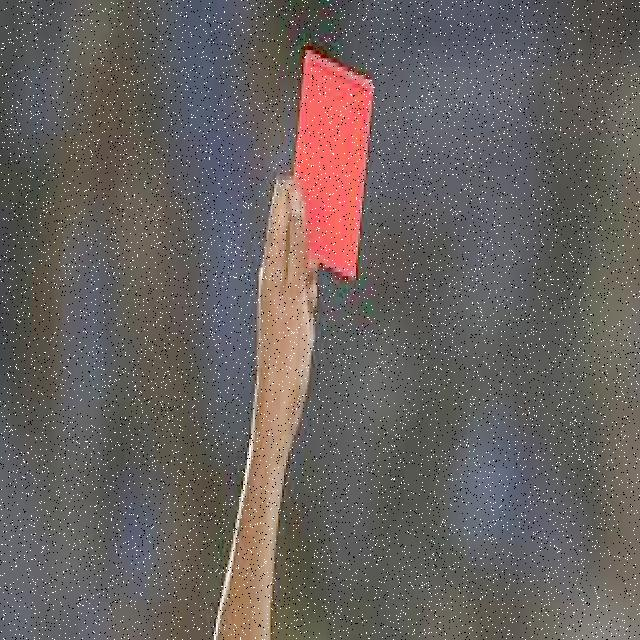red-card: (231, 48, 378, 526)
